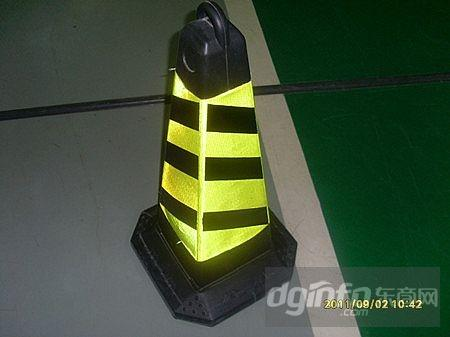cone_barrel: (130, 7, 287, 294)
